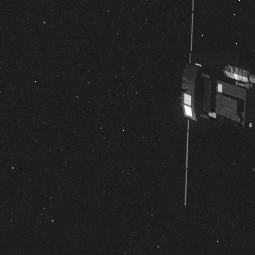soho: (180, 0, 254, 186)
